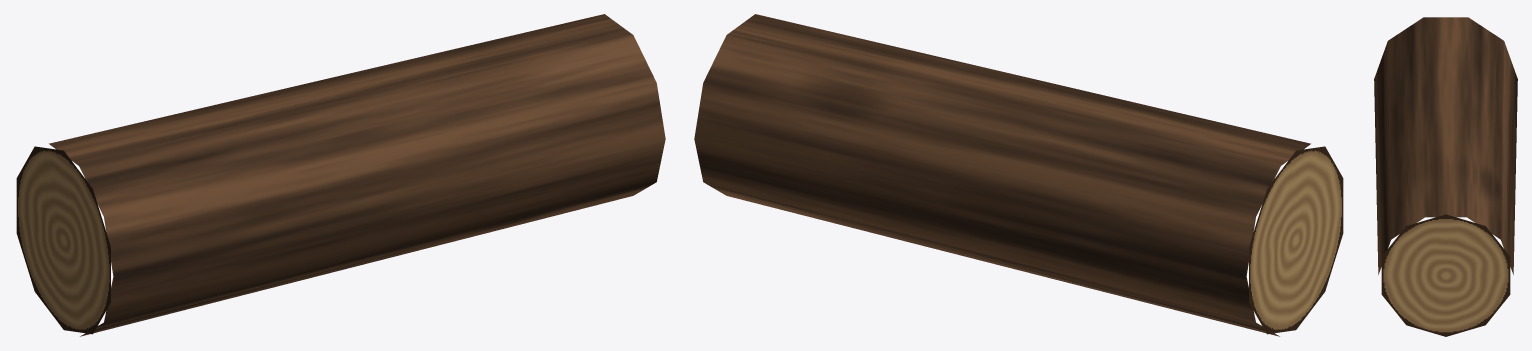
Rendered from log.glb.
3 views of the same model, side by side, from view 1: azimuth 30°, elevation 25°; view 2: azimuth 150°, elevation 25°; view 3: azimuth 270°, elevation 25° (orthographic). The views are drawn at different scales.
Visible parts, largest first — view 1: log; view 2: log; view 3: log.
Part boxes in pixels (x1,y1,x2,y2): log: (16,14,665,336); log: (694,14,1343,336); log: (1374,17,1517,336).
Size of the model in its own units: 1.1 by 0.34 by 0.34.
Materials: 2 (2 with a texture image).
